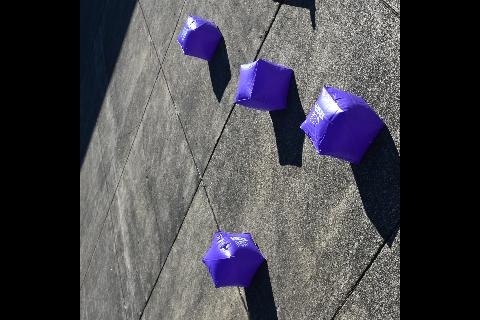cube: (301, 86, 385, 164), (203, 230, 265, 288), (234, 58, 292, 110), (178, 14, 222, 61)
